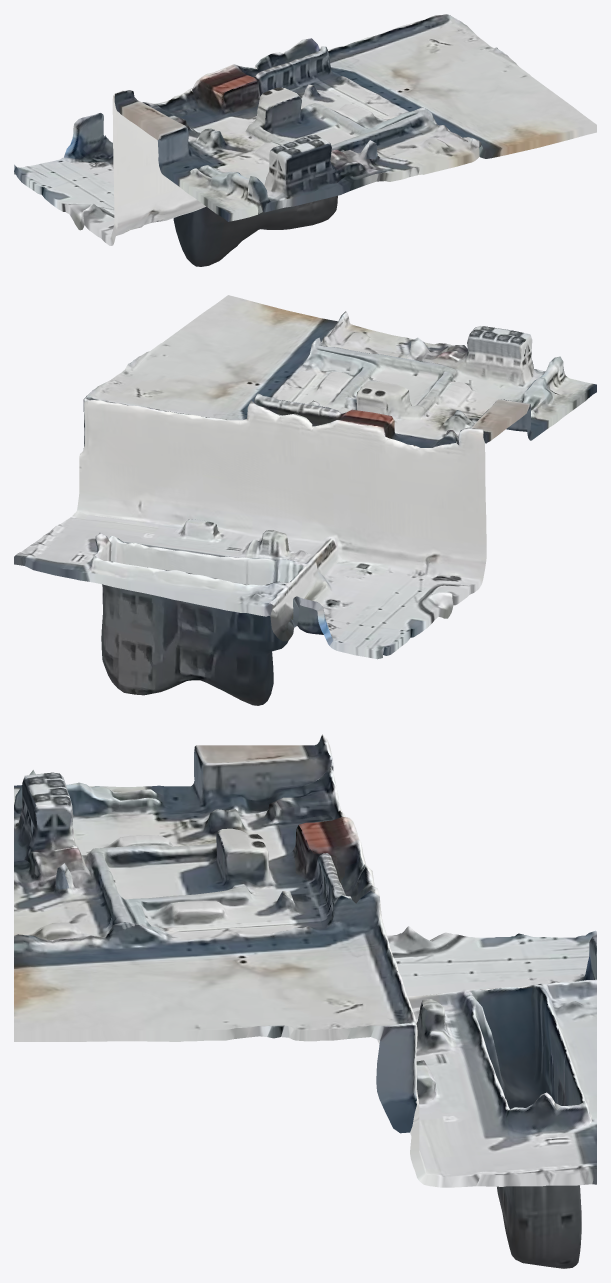
Rendered from z20-167749-405251-h0-yup-uvflip-v3-world.glb.
3 renders of one model, top to bottom at view 1: azimuth 30°, elevation 25°; view 2: azimuth 150°, elevation 25°; view 3: azimuth 270°, elevation 25°, orthographic. The views are drawn at different scales.
Bounding box in the file's own units: 30.16 × 20.68 × 30.32.
Materials: 1 (1 with a texture image).
